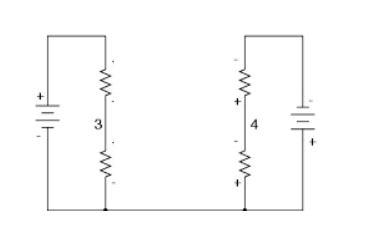resistor: (92, 140, 116, 182), (234, 144, 258, 181), (234, 60, 256, 95), (95, 63, 116, 95)
